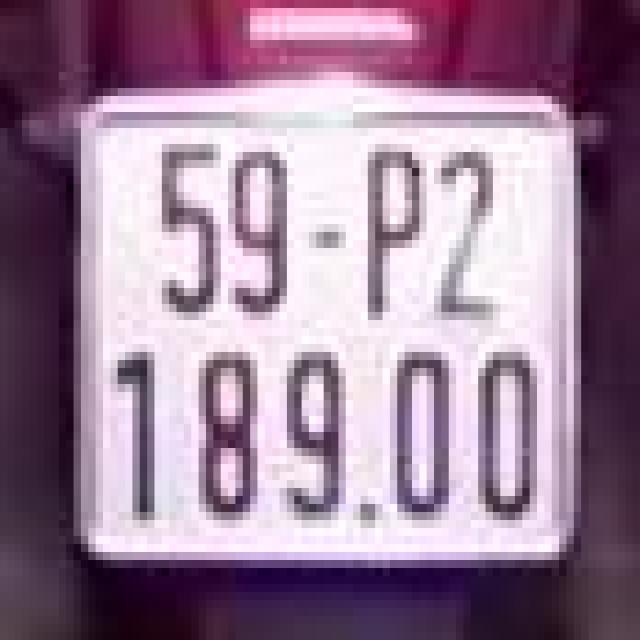0: (475, 336, 548, 528), (390, 348, 463, 524)
1: (107, 336, 173, 528)
2: (430, 136, 504, 328)
5: (147, 128, 228, 336)
8: (188, 336, 261, 528)
9: (272, 332, 353, 524), (228, 132, 302, 324)
P: (353, 140, 434, 332)
